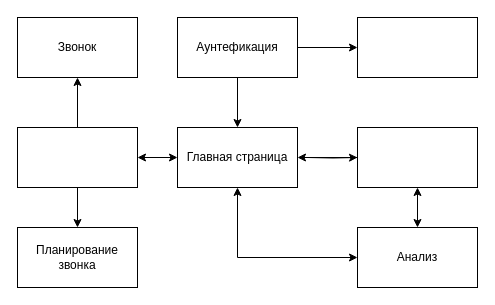
Some shapes in this 495 by 305 pixel diagram are drawn without their labels. The centre of each missing label's shape, as x and y in pixels:
"Дешборд" goes at [77,157].
"Отчеты" goes at [417,157].
"Регистрация" goes at [417,47].
